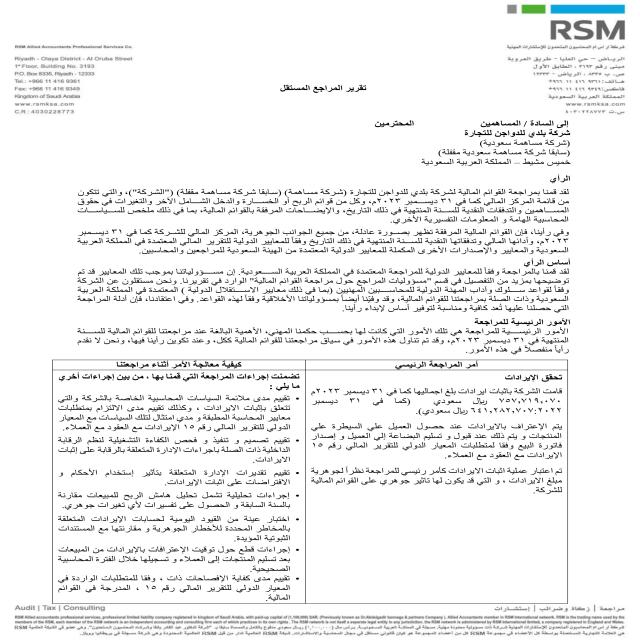auditor_report: (266, 81, 380, 100)
